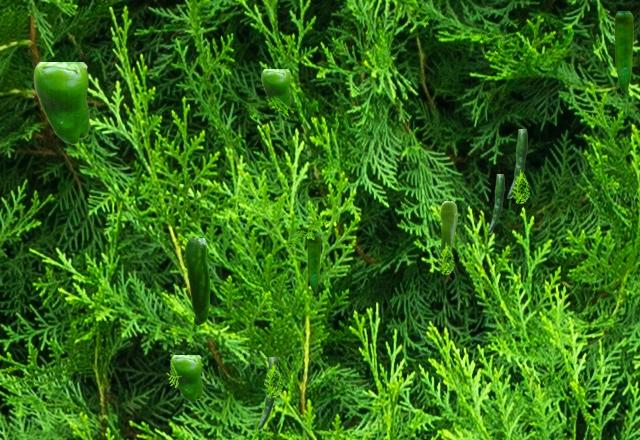green_chili: (33, 62, 88, 143), (185, 238, 208, 324), (614, 11, 632, 92), (257, 357, 277, 429), (170, 355, 201, 401), (507, 129, 526, 197), (261, 69, 289, 110), (487, 174, 503, 233), (439, 201, 456, 254), (307, 233, 319, 292)
